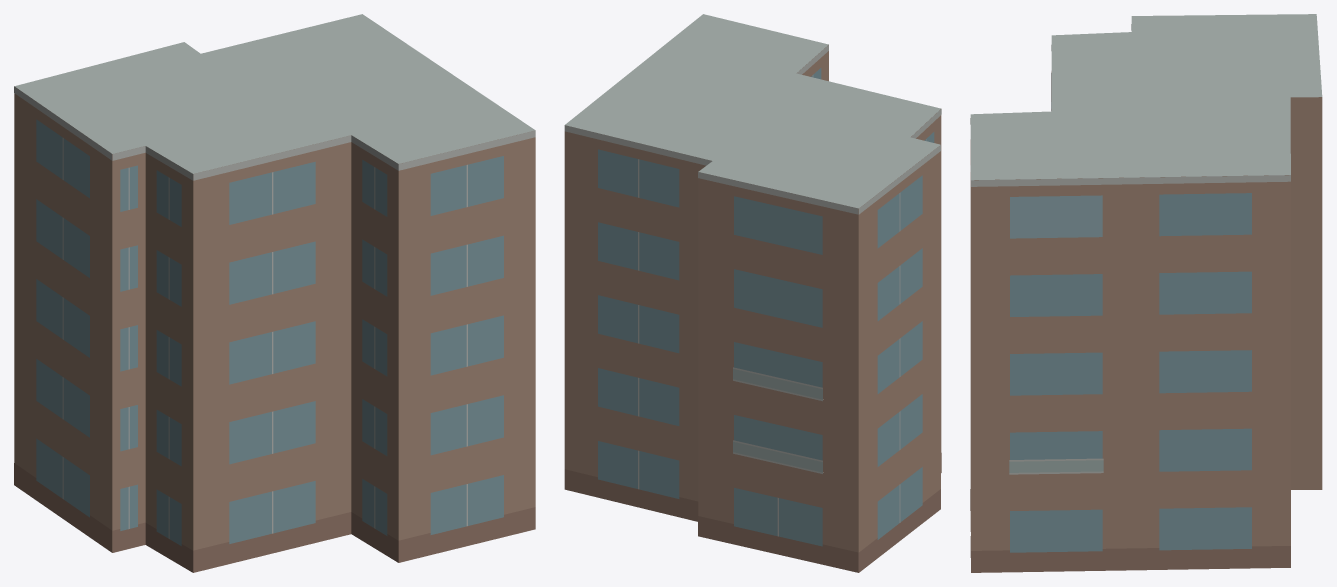
File: survey-upis-32568151.glb
The picture shows the model from 3 angles, left to right: view 1: azimuth 30°, elevation 25°; view 2: azimuth 150°, elevation 25°; view 3: azimuth 270°, elevation 25°; orthographic projection. The views are drawn at different scales.
Visible parts, largest first — view 1: survey-upis-32568151.tmp; view 2: survey-upis-32568151.tmp; view 3: survey-upis-32568151.tmp.
Boxes of the visible parts, x1=… form: survey-upis-32568151.tmp: x1=14, y1=14, x2=535, y2=572; survey-upis-32568151.tmp: x1=564, y1=14, x2=941, y2=572; survey-upis-32568151.tmp: x1=970, y1=14, x2=1322, y2=572.
Bounding box in the file's own units: 12.9 × 14.2 × 11.54.
